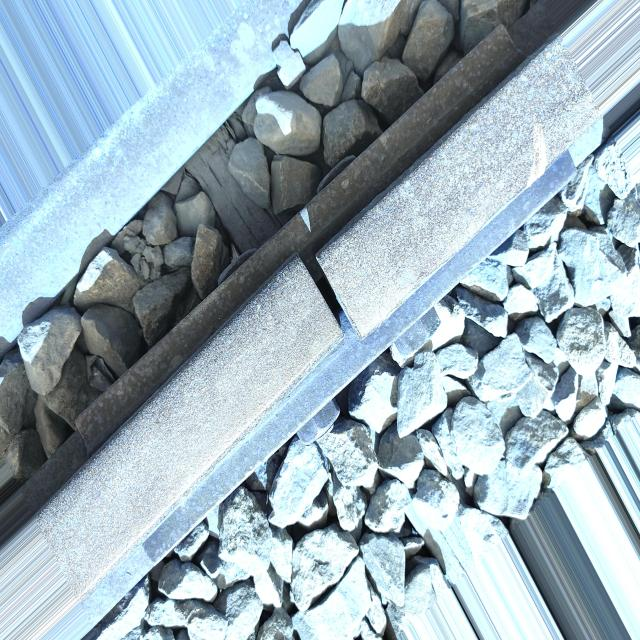crack: (273, 212, 383, 384)
